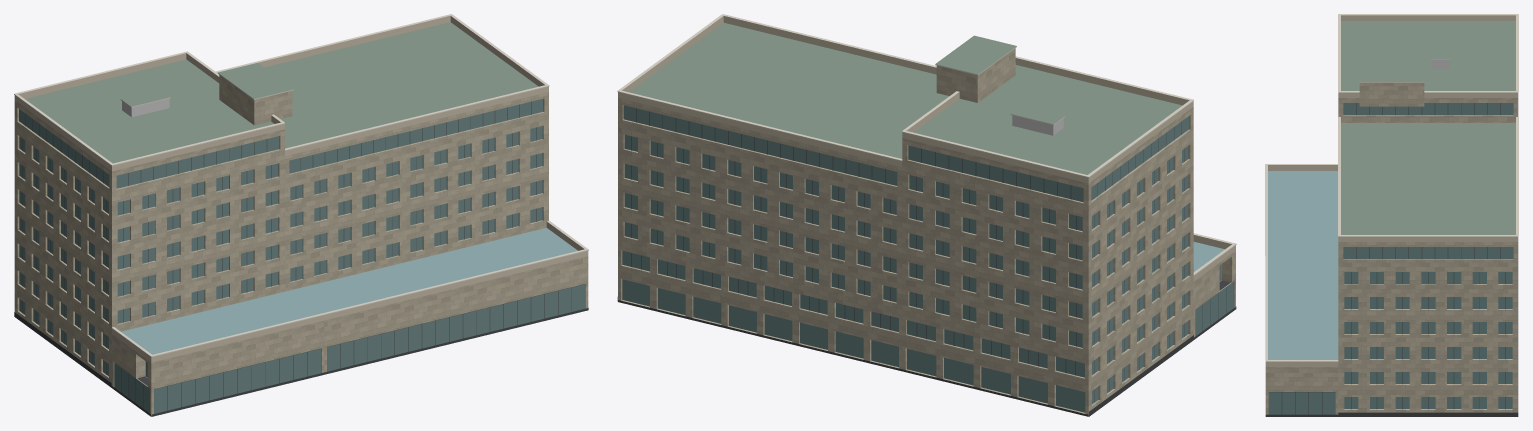
The picture shows the model from 3 angles, left to right: view 1: azimuth 30°, elevation 25°; view 2: azimuth 150°, elevation 25°; view 3: azimuth 270°, elevation 25°; orthographic projection. The views are drawn at different scales.
Parts seen in each view (by area): view 1: facultyHall__wall, facultyHall__glass, facultyHall__roof, facultyHall__roofGlass, facultyHall__parapet, facultyHall__trim, facultyHall__frame, facultyHall__base; view 2: facultyHall__wall, facultyHall__glass, facultyHall__roof, facultyHall__parapet, facultyHall__trim, facultyHall__frame, facultyHall__base, facultyHall__roofMetal; view 3: facultyHall__roof, facultyHall__wall, facultyHall__glass, facultyHall__roofGlass, facultyHall__parapet, facultyHall__trim, facultyHall__frame, facultyHall__base.
Boxes of the visible parts, <box> form: facultyHall__wall: <box>14,75,588,416</box>; facultyHall__glass: <box>19,99,585,413</box>; facultyHall__roof: <box>25,22,538,163</box>; facultyHall__roofGlass: <box>121,228,577,354</box>; facultyHall__parapet: <box>14,15,588,362</box>; facultyHall__trim: <box>14,14,588,357</box>; facultyHall__frame: <box>22,101,584,410</box>; facultyHall__base: <box>14,308,588,416</box>; facultyHall__wall: <box>618,48,1235,416</box>; facultyHall__glass: <box>622,105,1233,412</box>; facultyHall__roof: <box>629,23,1182,174</box>; facultyHall__parapet: <box>618,16,1235,281</box>; facultyHall__trim: <box>617,14,1236,275</box>; facultyHall__frame: <box>631,108,1226,402</box>; facultyHall__base: <box>617,280,1236,416</box>; facultyHall__roofMetal: <box>1012,115,1063,135</box>; facultyHall__roof: <box>1341,21,1515,234</box>; facultyHall__wall: <box>1265,83,1518,414</box>; facultyHall__glass: <box>1268,103,1513,414</box>; facultyHall__roofGlass: <box>1268,171,1338,359</box>; facultyHall__parapet: <box>1265,15,1518,366</box>; facultyHall__trim: <box>1265,14,1518,361</box>; facultyHall__frame: <box>1269,103,1505,414</box>; facultyHall__base: <box>1265,412,1518,416</box>.
Bounding box in the file's own units: 57.58 × 30.6 × 31.3.
10 materials, 1 textured.
